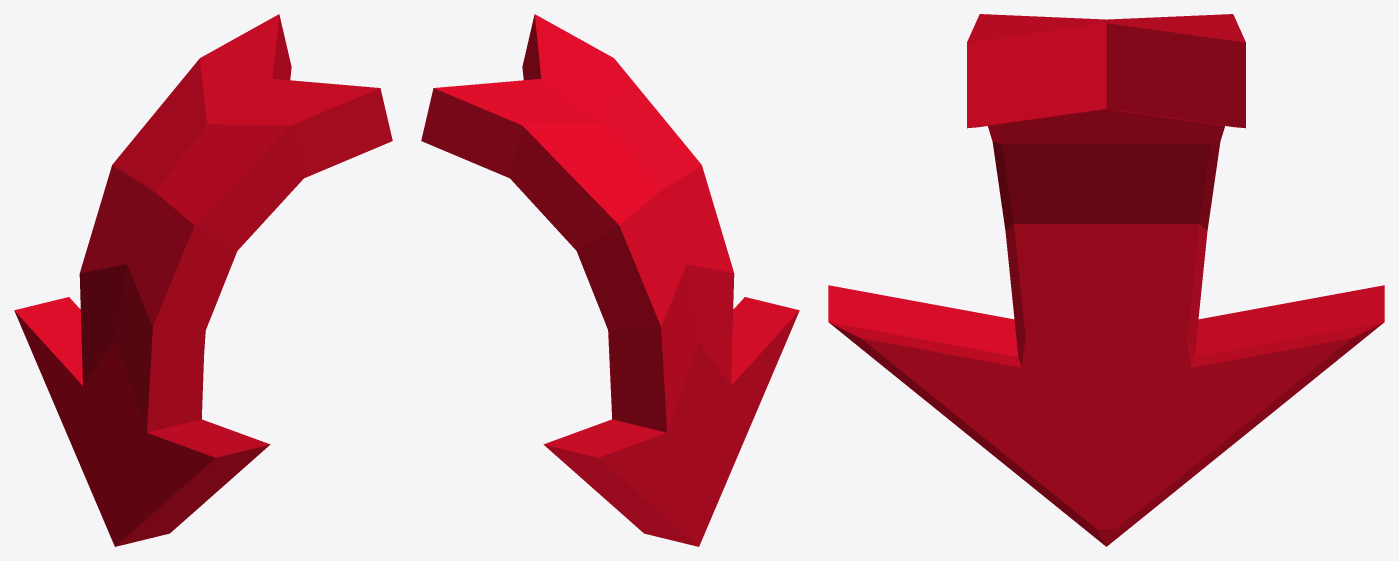
Rendered from yaa.fbx.
3 renders of one model, left to right at view 1: azimuth 30°, elevation 25°; view 2: azimuth 150°, elevation 25°; view 3: azimuth 270°, elevation 25°, orthographic. The views are drawn at different scales.
Parts seen in each view (by area): view 1: 큐브; view 2: 큐브; view 3: 큐브.
Part boxes in pixels (bbox=[...]): 큐브: bbox=[14, 14, 392, 546]; 큐브: bbox=[421, 14, 799, 546]; 큐브: bbox=[828, 14, 1384, 546].
Size of the model in its own units: 259 by 484 by 398.
